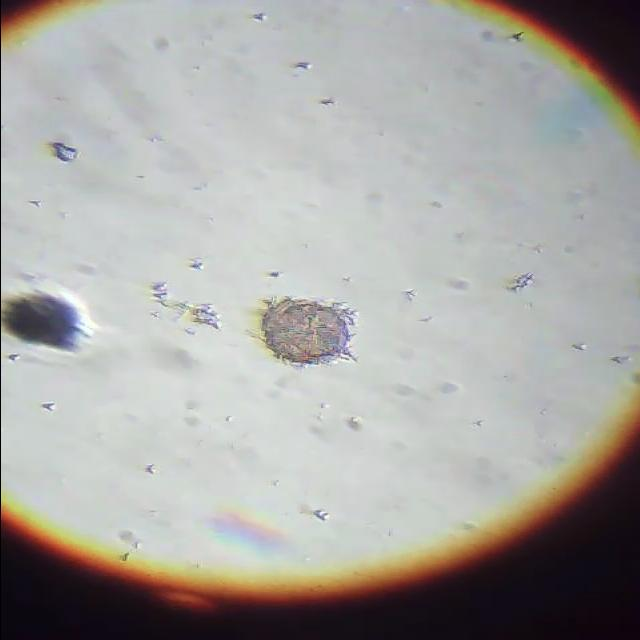alexandrium: (253, 294, 352, 374)
alexandrium minutum: (5, 286, 99, 362)
